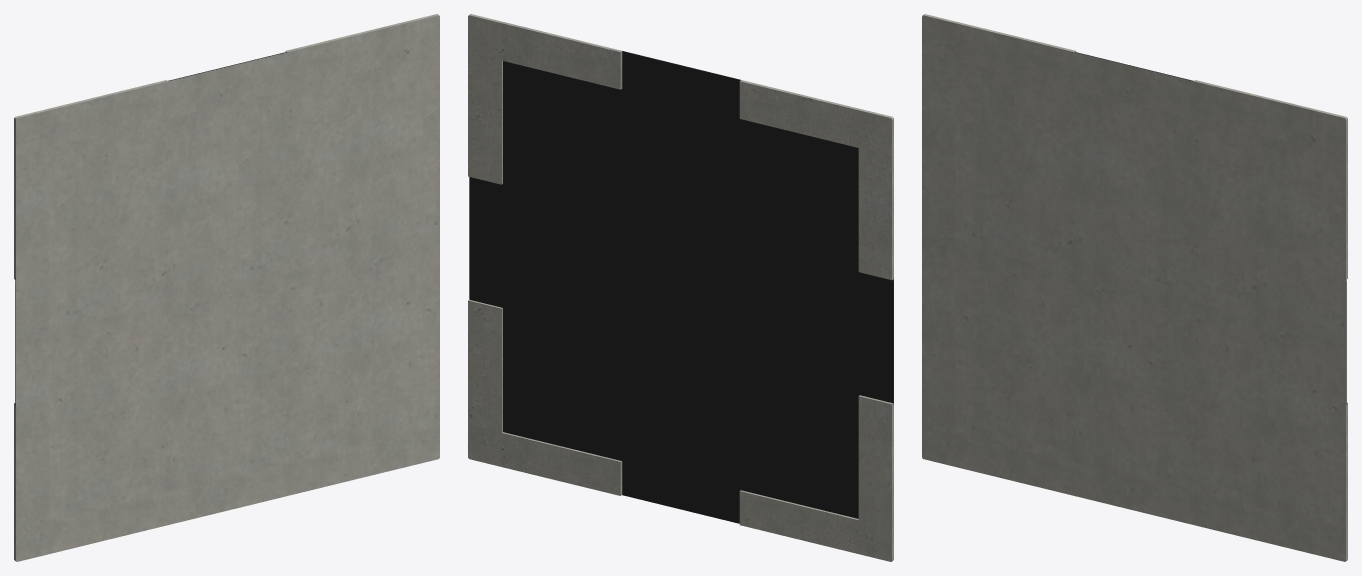
The model's file is block-asphalt-4-corners-20m.obj.
The picture shows the model from 3 angles, left to right: view 1: azimuth 30°, elevation 25°; view 2: azimuth 150°, elevation 25°; view 3: azimuth 330°, elevation 25°; orthographic projection.
Parts seen in each view (by area): view 1: block-asphalt-4-corners-20m_Plane.168; view 2: block-asphalt-4-corners-20m_Plane.168; view 3: block-asphalt-4-corners-20m_Plane.168.
Boxes of the visible parts, left/top/right/bottom form: block-asphalt-4-corners-20m_Plane.168: left=14, top=14, right=439, bottom=561; block-asphalt-4-corners-20m_Plane.168: left=468, top=14, right=893, bottom=561; block-asphalt-4-corners-20m_Plane.168: left=922, top=14, right=1347, bottom=561.
Bounding box in the file's own units: 20 × 20 × 0.15.
